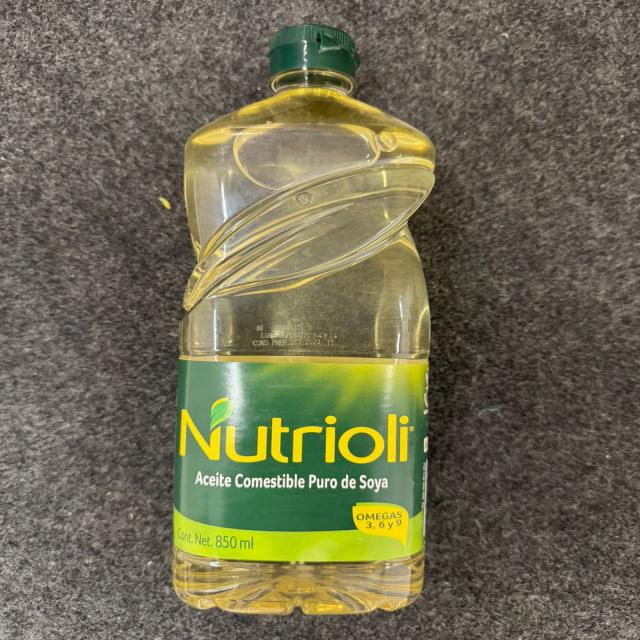Aceite Comestible Nutrioli 850ml: (157, 24, 447, 619)
